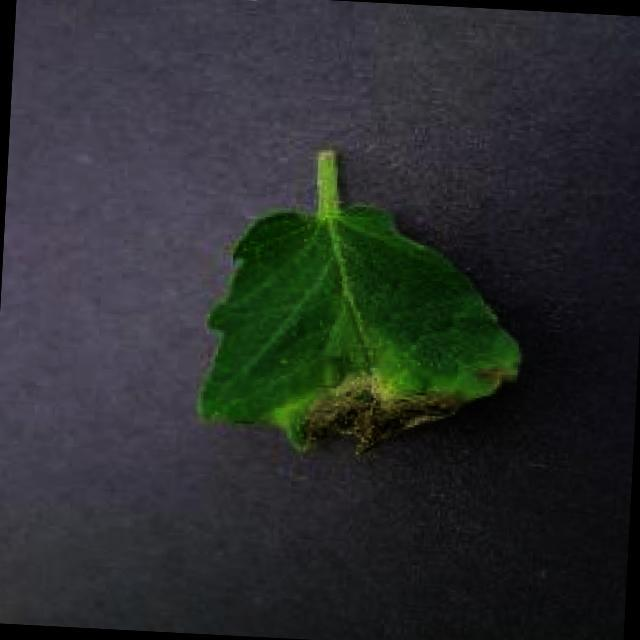Tomato late blight leaf: (191, 197, 526, 472)
